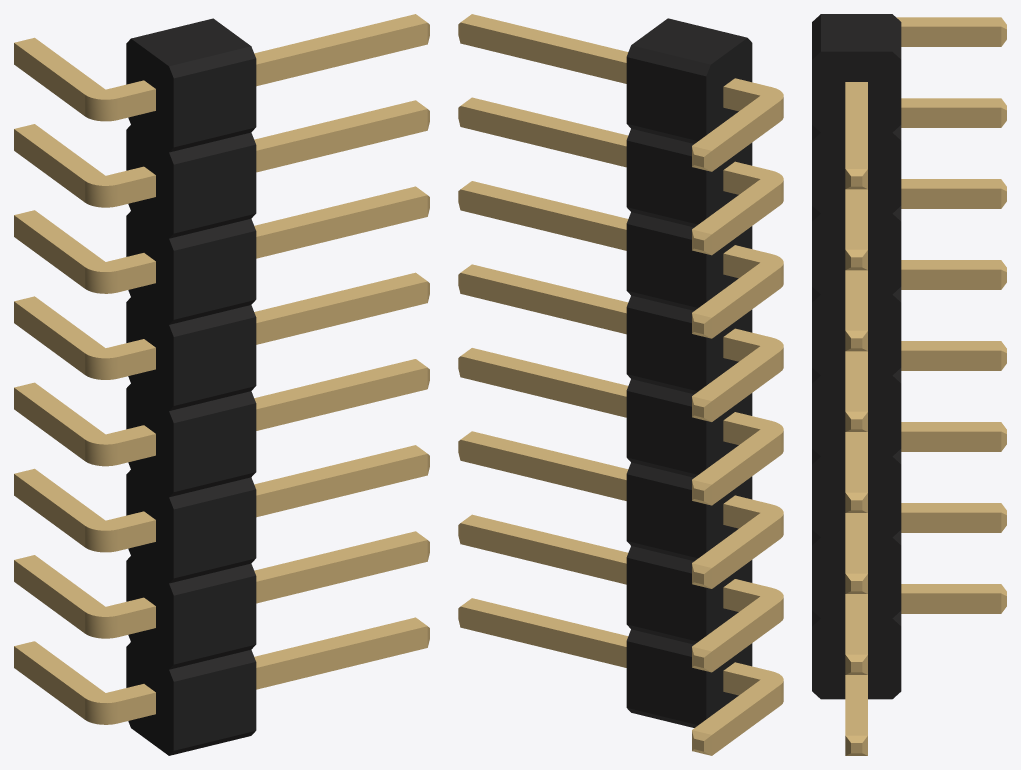
Rendered from header-1x08-bent.glb.
3 views of the same model, side by side, from view 1: azimuth 30°, elevation 25°; view 2: azimuth 150°, elevation 25°; view 3: azimuth 270°, elevation 25° (orthographic). The views are drawn at different scales.
Visible parts, largest first — view 1: PIN-02 (×17), IC-BODY-EPOXY-04; view 2: PIN-02 (×9), IC-BODY-EPOXY-04; view 3: IC-BODY-EPOXY-04, PIN-02 (×9).
Part boxes in pixels (x1,y1,x2,y2): PIN-02 (×17): (14,14,429,724); IC-BODY-EPOXY-04: (126,18,256,755); PIN-02 (×9): (458,14,783,755); IC-BODY-EPOXY-04: (626,18,752,727); IC-BODY-EPOXY-04: (812,14,901,699); PIN-02 (×9): (845,17,1006,755).
Size of the model in its own units: 10.36 by 20.32 by 5.54.
